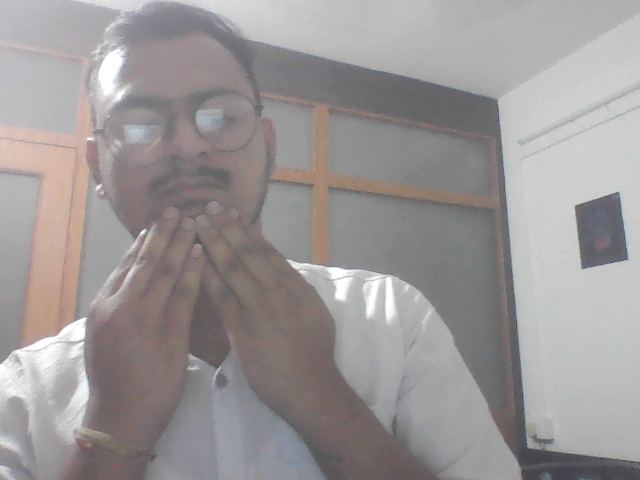ThankYou: (72, 199, 353, 438)
